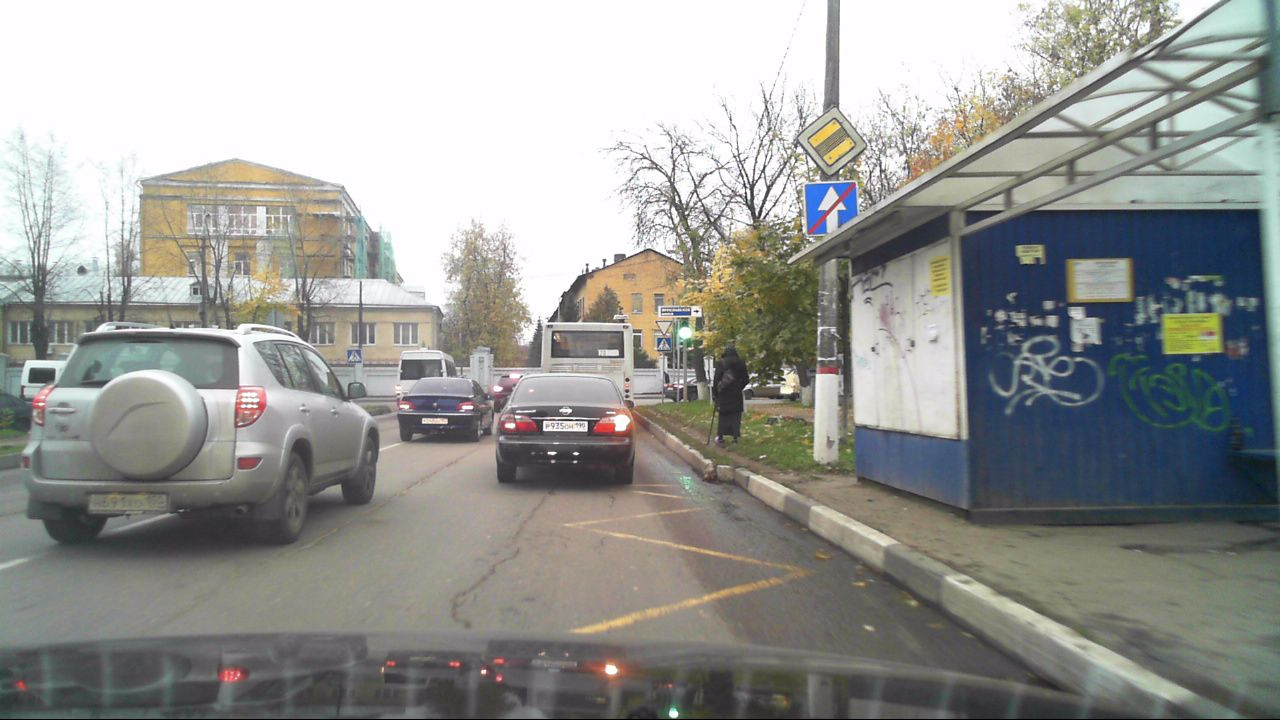main road: (800, 107, 865, 176)
